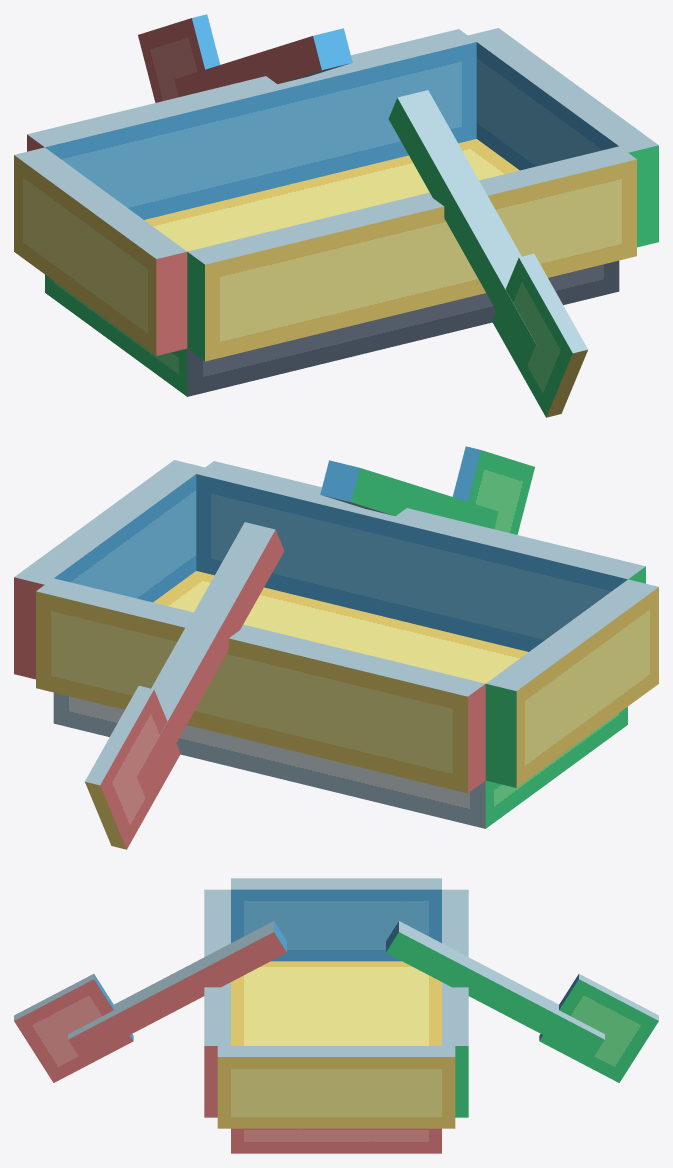
Rendered from boat_model.gltf.
3 views of the same model, one above another, from view 1: azimuth 30°, elevation 25°; view 2: azimuth 150°, elevation 25°; view 3: azimuth 270°, elevation 25° (orthographic). The views are drawn at different scales.
Parts seen in each view (by area): view 1: left, right, bottom, front, paddle_left (×2), back, paddle_right (×2); view 2: right, left, bottom, front, paddle_right (×2), back, paddle_left (×2); view 3: bottom, back, front, paddle_left (×2), paddle_right (×2), right, left.
Boxes of the visible parts, x1=… form: left: x1=187, y1=146, x2=636, y2=361; right: x1=27, y1=29, x2=476, y2=219; bottom: x1=45, y1=139, x2=619, y2=396; front: x1=14, y1=147, x2=187, y2=355; paddle_left (×2): x1=388, y1=90, x2=588, y2=417; back: x1=468, y1=28, x2=658, y2=247; paddle_right (×2): x1=138, y1=14, x2=352, y2=102; right: x1=36, y1=578, x2=485, y2=793; left: x1=196, y1=461, x2=645, y2=651; bottom: x1=53, y1=571, x2=627, y2=828; front: x1=485, y1=579, x2=658, y2=787; paddle_right (×2): x1=84, y1=522, x2=284, y2=849; back: x1=14, y1=460, x2=204, y2=679; paddle_left (×2): x1=320, y1=446, x2=534, y2=534; bottom: x1=231, y1=961, x2=441, y2=1153; back: x1=217, y1=1046, x2=455, y2=1128; front: x1=231, y1=878, x2=441, y2=961; paddle_left (×2): x1=14, y1=921, x2=286, y2=1082; paddle_right (×2): x1=386, y1=921, x2=658, y2=1082; right: x1=442, y1=889, x2=468, y2=1117; left: x1=204, y1=889, x2=230, y2=1117.
Size of the model in its own units: 2 by 0.851 by 3.05.
Materials: 1 (1 with a texture image).
